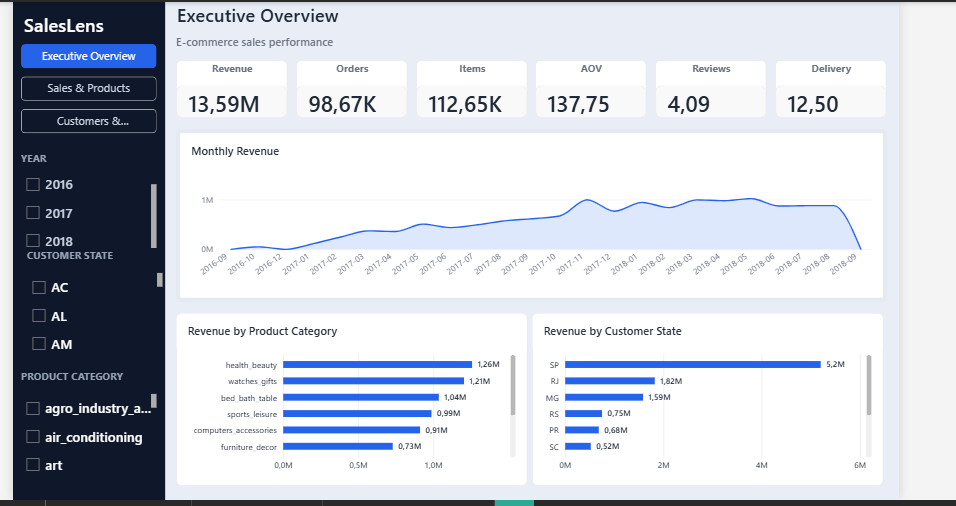

Layout of this report page (visuals, bound fields, positions):
{"tool":"powerbi","page":{"name":"Executive Overview","canvas":[1280,720],"ordinal":0},"visuals":[{"type":"shape","box":[0,0,220,720],"z":0},{"type":"cardVisual","title":"Revenue ","fields":{"Data":["public fact_sales.Total Revenue"]},"box":[236,84,161,84],"z":1000},{"type":"cardVisual","title":"Orders","fields":{"Data":["public fact_sales.Total Orders"]},"box":[409,84,161,84],"z":2000},{"type":"cardVisual","title":"Items","fields":{"Data":["public fact_sales.Total Items Sold"]},"box":[582,84,161,84],"z":3000},{"type":"cardVisual","title":"AOV","fields":{"Data":["public fact_sales.Average Order Value"]},"box":[755,84,161,84],"z":4000},{"type":"cardVisual","title":"Reviews","fields":{"Data":["public fact_reviews.Average Review Score"]},"box":[928,84,161,84],"z":5000},{"type":"cardVisual","title":" Delivery","fields":{"Data":["public fact_reviews.Average Delivery Days"]},"box":[1101,84,161,84],"z":6000},{"type":"slicer","title":"YEAR","fields":{"Values":["public dim_date.year"]},"box":[12,215,196,150],"z":7000},{"type":"slicer","title":"CUSTOMER STATE","fields":{"Values":["public dim_customer.customer_state"]},"box":[20,355,196,160],"z":8000},{"type":"slicer","title":"PRODUCT CATEGORY","fields":{"Values":["public dim_product.product_category_name_english"]},"box":[12,530,196,170],"z":9000},{"type":"areaChart","title":"Monthly Revenue","fields":{"Category":["public dim_date.year_month"],"Y":["public fact_sales.Total Revenue"]},"box":[236,184,1028,250],"z":10000},{"type":"barChart","title":"Revenue by Product Category","fields":{"Category":["public dim_product.product_category_name_english"],"Y":["public fact_sales.Total Revenue"]},"box":[236,450,508,250],"z":11000},{"type":"barChart","title":"Revenue by Customer State","fields":{"Category":["public dim_customer.customer_state"],"Y":["public fact_sales.Total Revenue"]},"box":[750,450,508,250],"z":12000},{"type":"textbox","box":[16,14,204,46],"z":13000},{"type":"pageNavigator","box":[12,60,196,130],"z":14000},{"type":"textbox","box":[236,46,600,22],"z":15000},{"type":"textbox","box":[236.7,0,321.7,46.7],"z":16000}]}

Visuals, with their boxes on the page's 1280x720 design canvas (x1, y1, x2, y2). These are canvas units, not pixel positions in the 956x506 screenshot, which may show the page scaled, cropped or inside an application window:
shape: region(0, 0, 220, 720)
"Revenue " cardVisual: region(236, 84, 397, 168)
"Orders" cardVisual: region(409, 84, 570, 168)
"Items" cardVisual: region(582, 84, 743, 168)
"AOV" cardVisual: region(755, 84, 916, 168)
"Reviews" cardVisual: region(928, 84, 1089, 168)
" Delivery" cardVisual: region(1101, 84, 1262, 168)
"YEAR" slicer: region(12, 215, 208, 365)
"CUSTOMER STATE" slicer: region(20, 355, 216, 515)
"PRODUCT CATEGORY" slicer: region(12, 530, 208, 700)
"Monthly Revenue" areaChart: region(236, 184, 1264, 434)
"Revenue by Product Category" barChart: region(236, 450, 744, 700)
"Revenue by Customer State" barChart: region(750, 450, 1258, 700)
textbox: region(16, 14, 220, 60)
pageNavigator: region(12, 60, 208, 190)
textbox: region(236, 46, 836, 68)
textbox: region(237, 0, 558, 47)
